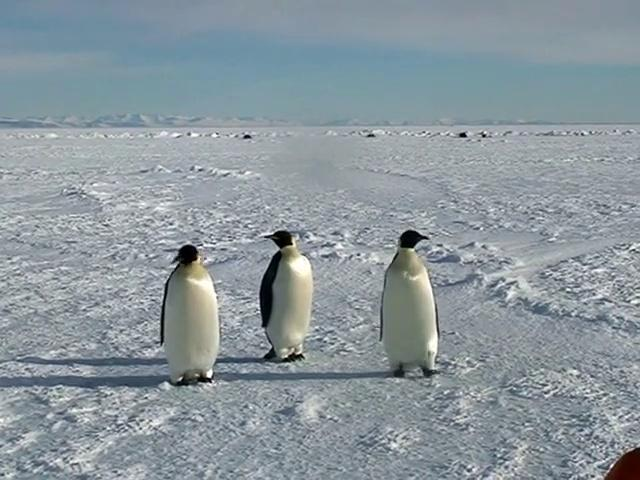animal: (381, 231, 440, 378)
